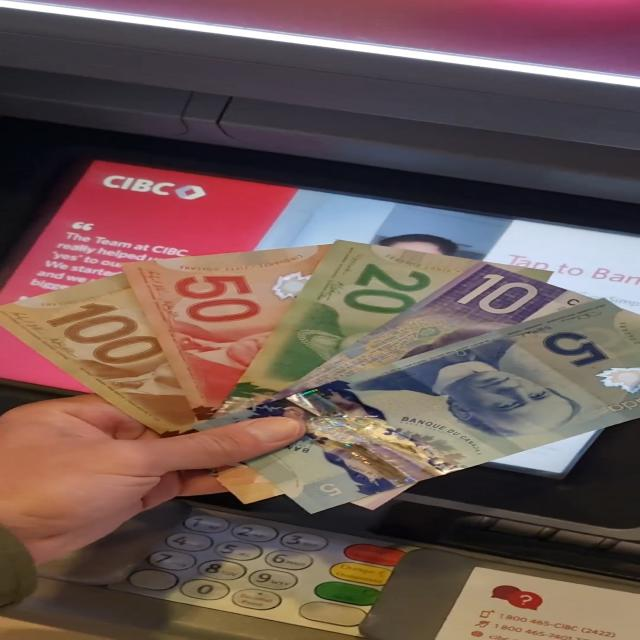10 cad: (270, 266, 597, 399)
100 cad: (0, 273, 206, 434)
20 cad: (208, 242, 478, 418)
5 cad: (282, 299, 640, 495)
50 cad: (129, 244, 335, 421)
